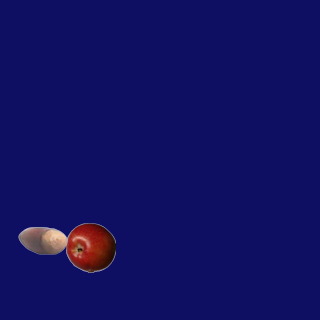Apple Braeburn: (65, 222, 115, 272)
Hazelnut: (17, 215, 67, 265)
